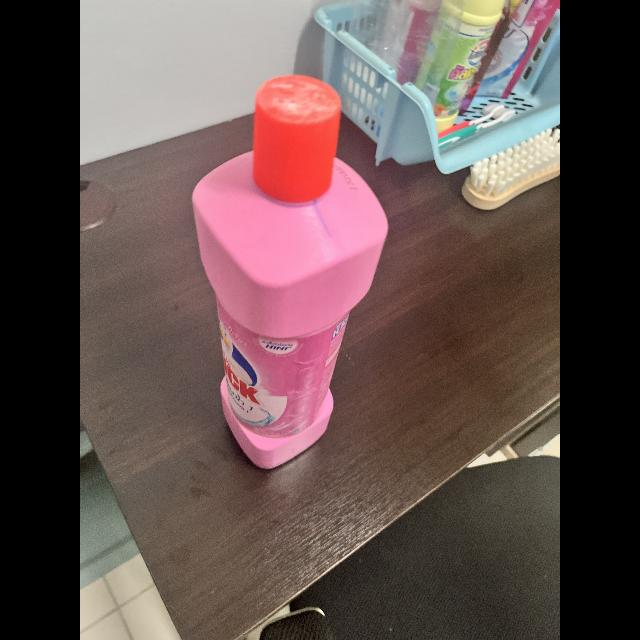chemical_plastic_bottle: (191, 71, 397, 471)
